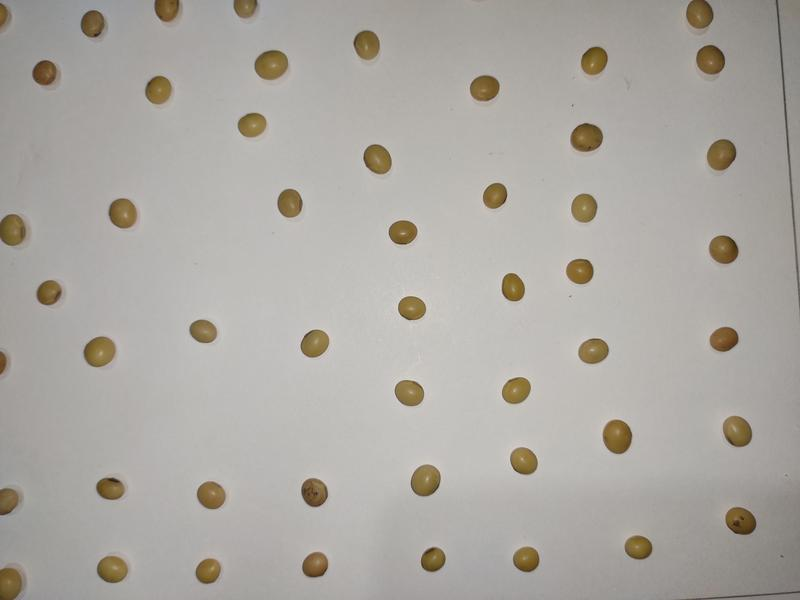Soybean: (697, 137, 740, 174), (347, 27, 386, 65), (566, 120, 607, 155), (252, 50, 293, 83), (105, 194, 141, 231), (358, 143, 397, 176), (81, 334, 117, 369), (601, 417, 634, 454), (409, 462, 442, 499), (296, 327, 333, 360), (384, 218, 426, 247), (575, 335, 614, 365), (693, 43, 727, 77), (295, 477, 330, 510), (707, 233, 740, 267), (724, 507, 760, 538), (577, 44, 611, 76), (78, 8, 110, 41), (564, 257, 597, 289), (722, 415, 754, 448), (467, 72, 501, 103), (186, 316, 220, 347), (143, 76, 178, 106), (567, 192, 599, 224), (195, 480, 229, 510), (395, 294, 430, 323), (506, 445, 538, 476), (393, 378, 425, 409), (276, 187, 306, 220), (498, 271, 528, 304), (96, 555, 129, 584), (95, 476, 130, 503), (686, 1, 716, 32), (34, 278, 64, 309), (300, 551, 333, 579), (621, 533, 655, 560), (195, 556, 224, 587), (478, 183, 511, 210), (237, 112, 267, 141), (502, 376, 532, 405), (32, 61, 63, 89), (511, 545, 541, 573), (709, 326, 740, 352), (1, 565, 23, 600), (420, 547, 449, 573), (229, 1, 262, 21), (150, 1, 181, 22), (1, 486, 20, 520), (1, 350, 10, 375)
